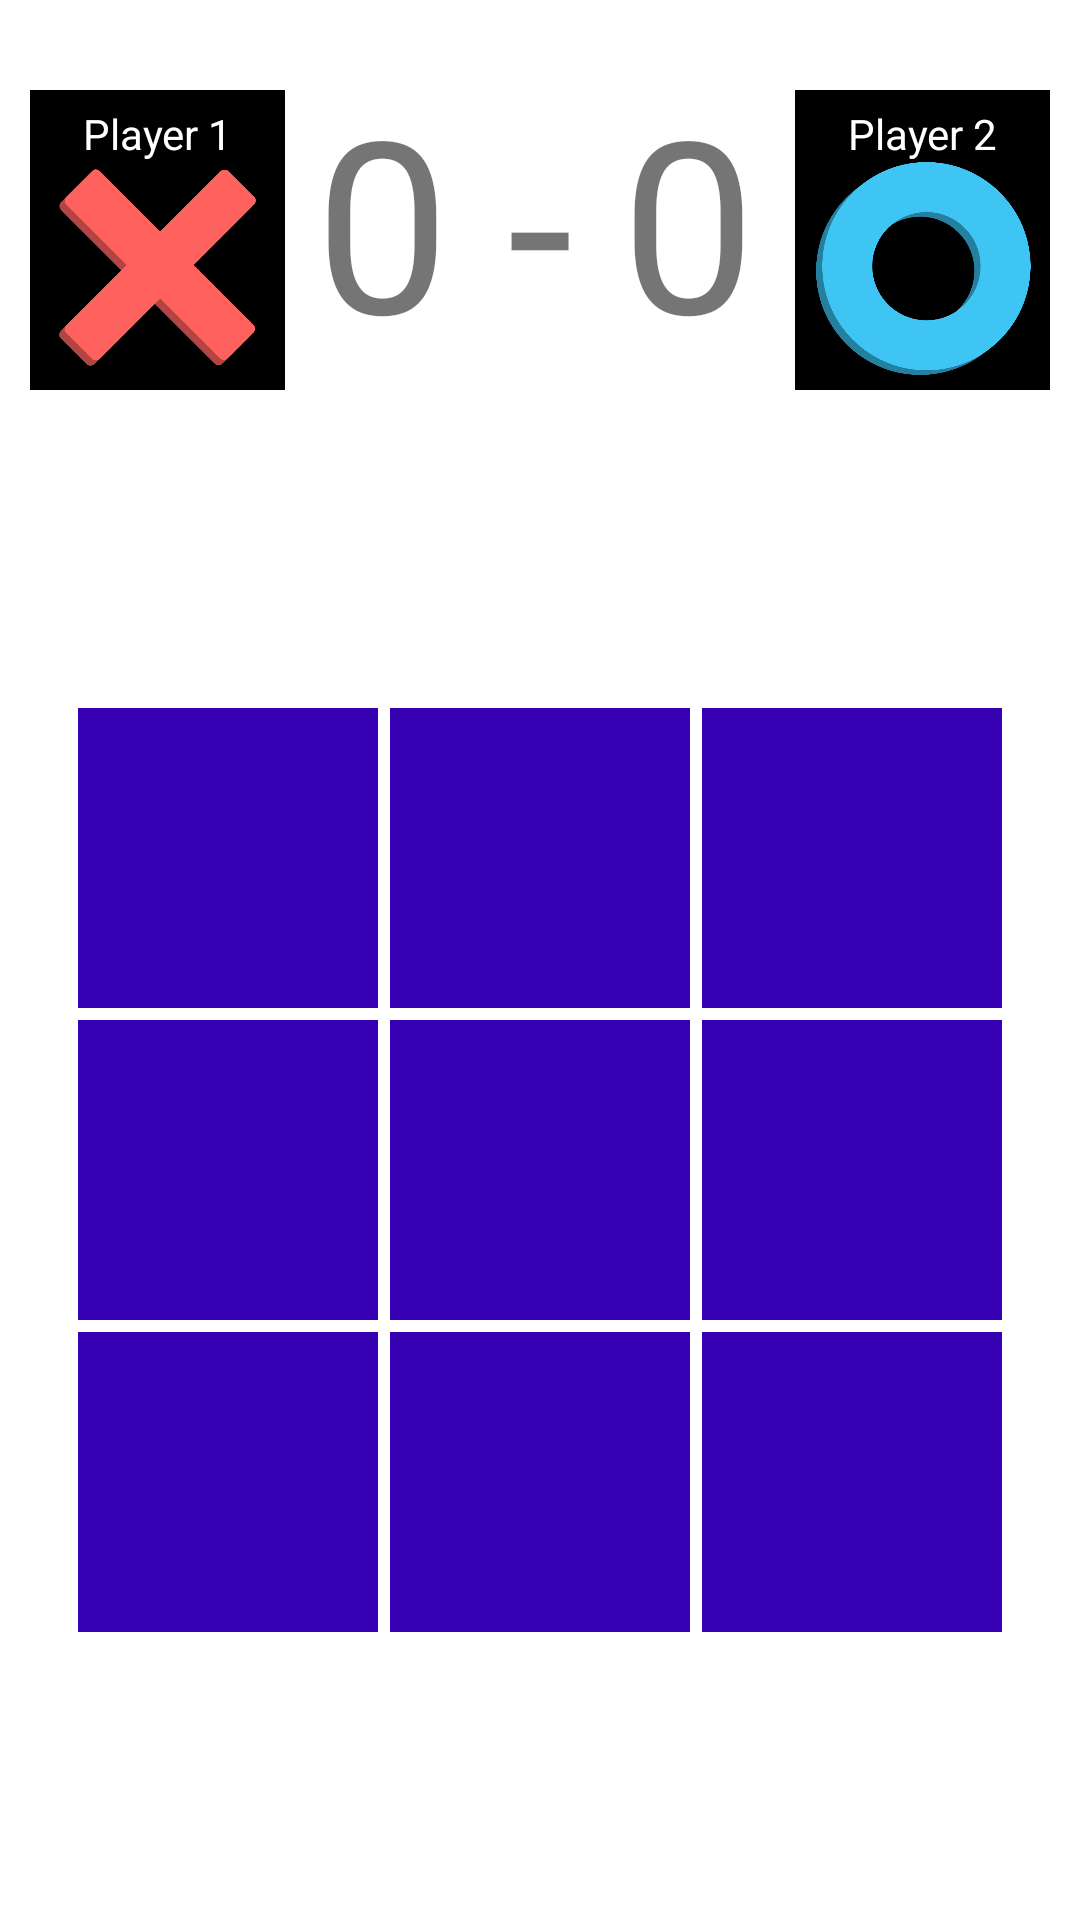

Named icons in this screenshot (1080px x 1920px) and their centers, [x,y]:
cross: [157,267]
zero: [923,268]
